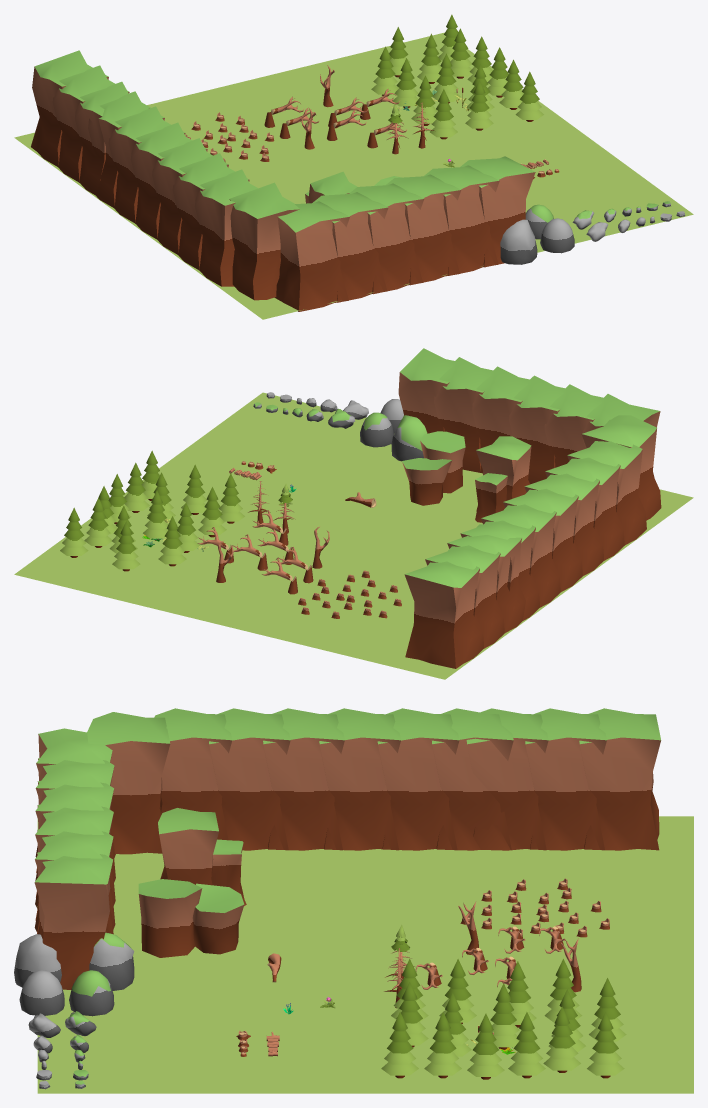
The model's file is mapLvL0.glb.
The picture shows the model from 3 angles, top to bottom: view 1: azimuth 30°, elevation 25°; view 2: azimuth 150°, elevation 25°; view 3: azimuth 270°, elevation 25°; orthographic projection. The views are drawn at different scales.
Visible parts, largest first — view 1: Plane, Ground.022, Ground.016, Ground.017, Ground.021, Ground.018, Ground.020, Ground, Ground.019, Ground.013, Ground.010, Ground.009 (+23 smaller); view 2: Plane, Ground.013, Ground.004, Ground.018, Ground.001, Ground.020, Ground, Ground.010, Ground.012, Ground.009, Ground.019, Ground.006 (+21 smaller); view 3: Plane, Ground.013, Ground.010, Ground.012, Ground.009, Ground.007, Ground.016, Ground.006, Ground.019, Ground.001, Ground.011, Ground.008 (+26 smaller).
Part boxes in pixels (left/top/right/bottom): Plane: left=14, top=32, right=693, bottom=319; Ground.022: left=274, top=201, right=349, bottom=311; Ground.016: left=229, top=182, right=299, bottom=300; Ground.017: left=386, top=174, right=461, bottom=285; Ground.021: left=313, top=192, right=388, bottom=302; Ground.018: left=424, top=165, right=499, bottom=275; Ground.020: left=349, top=183, right=424, bottom=294; Ground: left=194, top=169, right=257, bottom=286; Ground.019: left=460, top=156, right=535, bottom=267; Ground.013: left=31, top=50, right=108, bottom=166; Ground.010: left=130, top=122, right=207, bottom=239; Ground.009: left=108, top=106, right=185, bottom=222; Plane: left=14, top=392, right=693, bottom=679; Ground.013: left=404, top=561, right=483, bottom=668; Ground.004: left=475, top=436, right=531, bottom=522; Ground.018: left=434, top=357, right=492, bottom=472; Ground.001: left=402, top=431, right=465, bottom=505; Ground.020: left=509, top=375, right=564, bottom=484; Ground: left=567, top=441, right=646, bottom=545; Ground.010: left=503, top=488, right=582, bottom=592; Ground.012: left=425, top=545, right=504, bottom=648; Ground.009: left=481, top=504, right=560, bottom=607; Ground.019: left=398, top=348, right=454, bottom=433; Ground.006: left=545, top=457, right=624, bottom=560; Plane: left=37, top=816, right=693, bottom=1093; Ground.013: left=579, top=708, right=661, bottom=850; Ground.010: left=319, top=708, right=400, bottom=850; Ground.012: left=525, top=708, right=606, bottom=850; Ground.009: left=377, top=708, right=459, bottom=850; Ground.007: left=263, top=708, right=344, bottom=850; Ground.016: left=87, top=712, right=170, bottom=854; Ground.006: left=209, top=708, right=290, bottom=850; Ground.019: left=34, top=852, right=112, bottom=989; Ground.001: left=138, top=879, right=244, bottom=957; Ground.011: left=466, top=708, right=548, bottom=850; Ground.008: left=432, top=708, right=513, bottom=850.
Size of the model in its own units: 56.18 by 11.27 by 58.21.
Materials: 60 (60 with a texture image).
